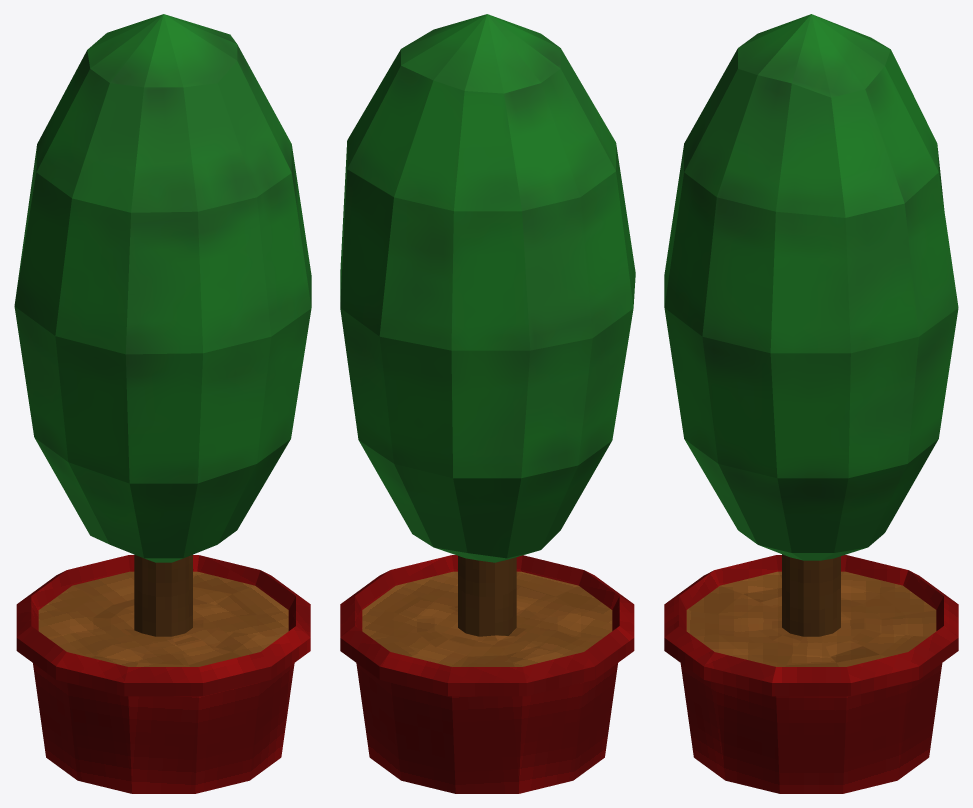
The model's file is plant1.fbx.
The picture shows the model from 3 angles, left to right: view 1: azimuth 30°, elevation 25°; view 2: azimuth 150°, elevation 25°; view 3: azimuth 270°, elevation 25°; orthographic projection.
Visible parts, largest first — view 1: sphere, pot, cylinder; view 2: sphere, pot, cylinder; view 3: sphere, pot, cylinder.
Boxes of the visible parts, <box> form: sphere: <box>14,14,311,562</box>; pot: <box>16,555,310,793</box>; cylinder: <box>134,554,192,636</box>; sphere: <box>340,14,635,562</box>; pot: <box>340,555,634,793</box>; cylinder: <box>458,556,516,636</box>; sphere: <box>664,14,958,560</box>; pot: <box>664,555,958,793</box>; cylinder: <box>782,554,840,636</box>.
Size of the model in its own units: 125 by 342 by 125.
3 materials, 3 textured.
